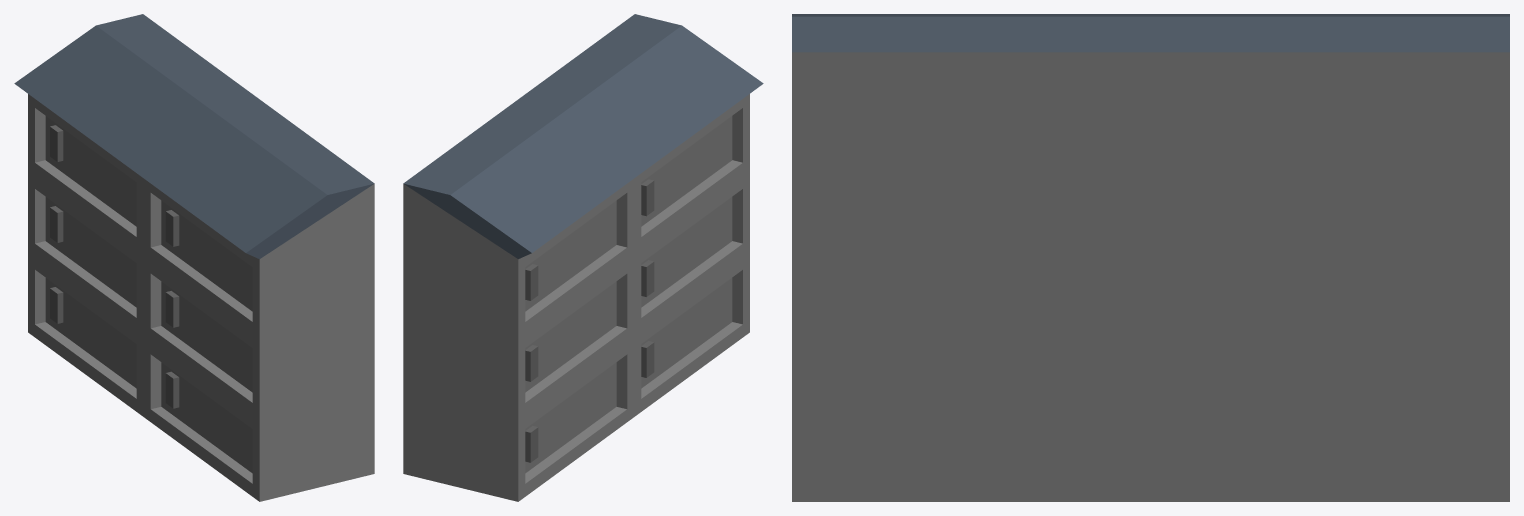
The model's file is PostBox_2_A.fbx.
3 views of the same model, side by side, from view 1: azimuth 30°, elevation 25°; view 2: azimuth 150°, elevation 25°; view 3: azimuth 270°, elevation 25° (orthographic). The views are drawn at different scales.
Visible parts, largest first — view 1: PostBox_2_A; view 2: PostBox_2_A; view 3: PostBox_2_A.
Part boxes in pixels (x1,y1,x2,y2): PostBox_2_A: [14, 14, 374, 501]; PostBox_2_A: [403, 14, 763, 501]; PostBox_2_A: [792, 14, 1509, 501].
Size of the model in its own units: 19.48 by 41.93 by 60.65.
